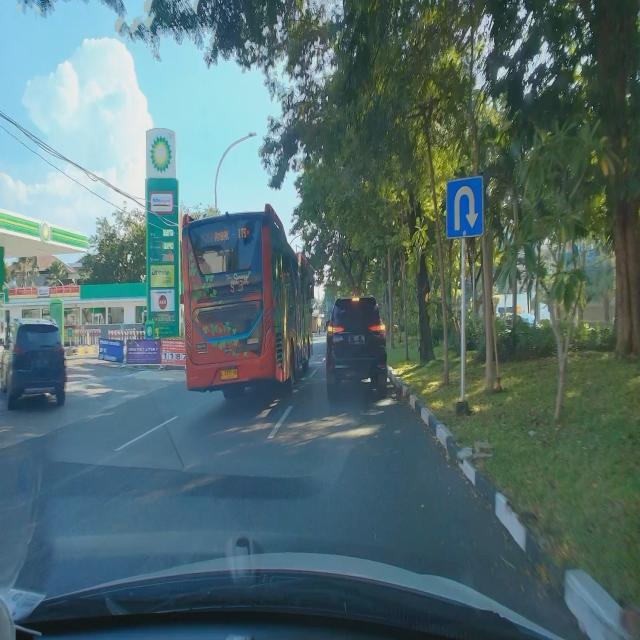bus: (179, 202, 315, 401)
car: (326, 293, 388, 400)
license-plate: (220, 368, 238, 381), (348, 335, 366, 345)
